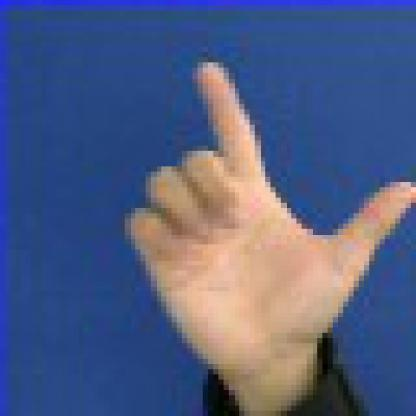seven: (83, 31, 411, 406)
